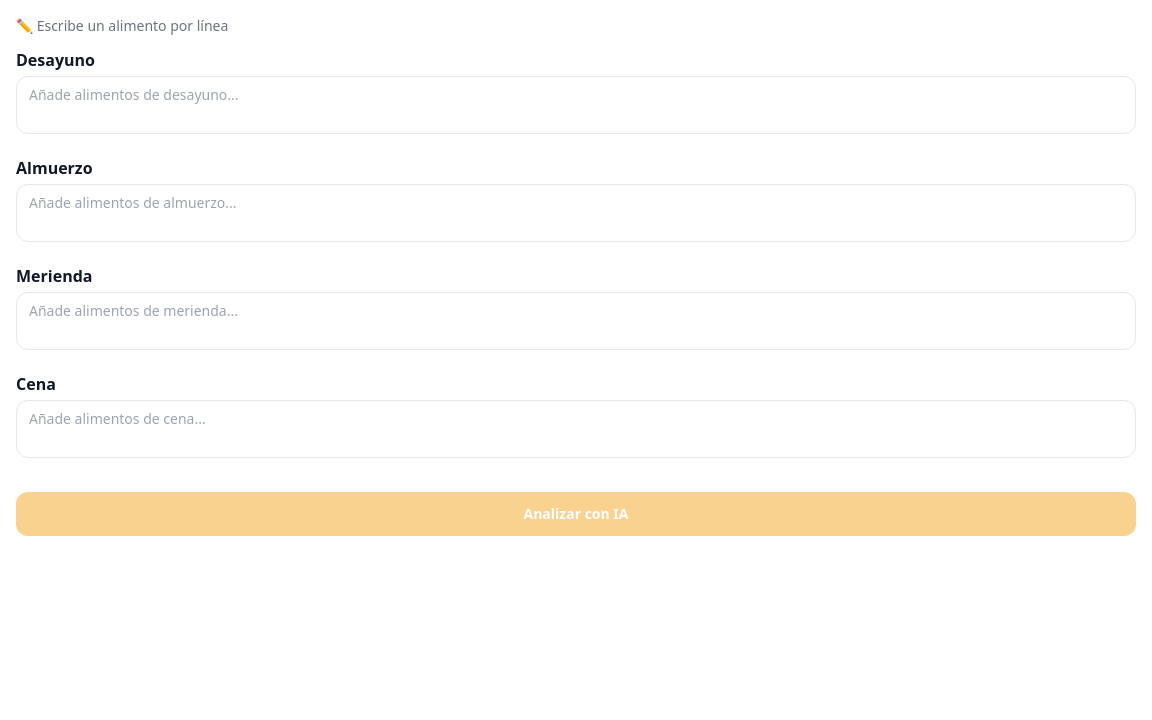
InputScreen — text mode › CTA is enabled when any meal textarea has text
Type "100g de arroz" into the text box with placeholder "Añade alimentos de desayuno...". click: [576, 105]
box: [16,76,1136,134]
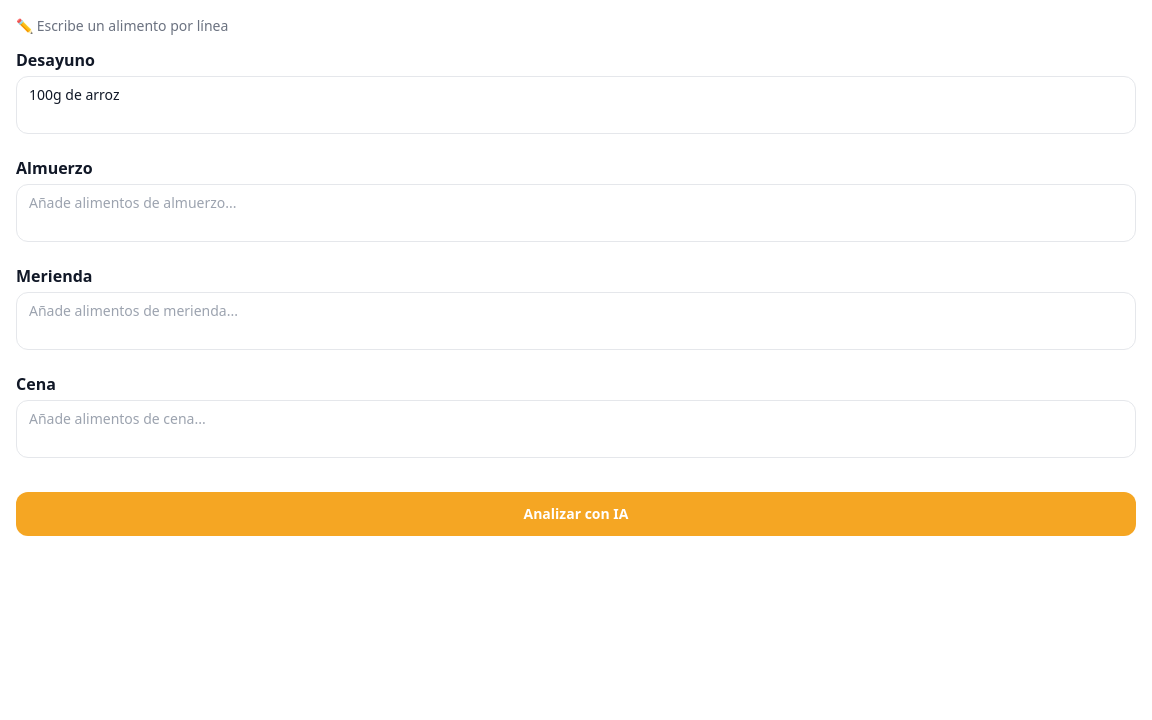
Expected: the button "Analizar con IA" is enabled, [16,492,1136,536]
